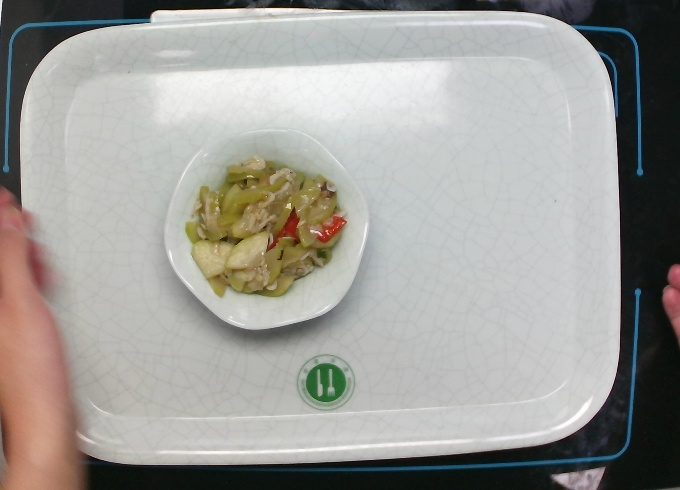WCQzf-Hua_Duo_Wan: (159, 124, 374, 335)
